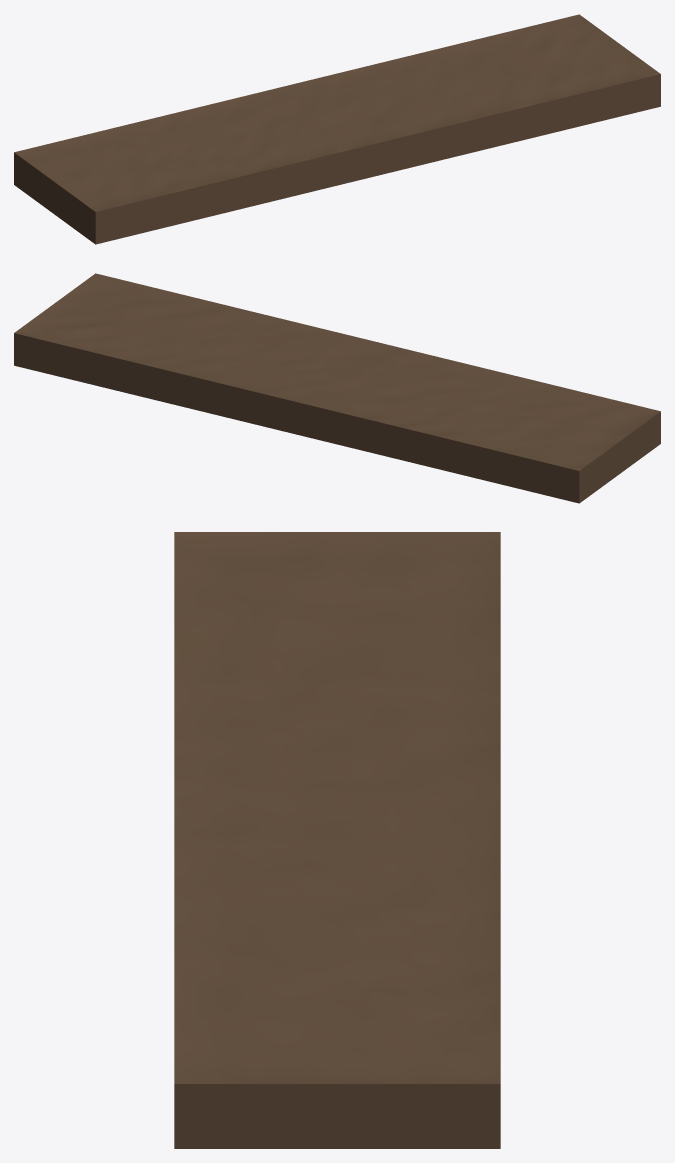
Rendered from body_close.fbx.
3 views of the same model, one above another, from view 1: azimuth 30°, elevation 25°; view 2: azimuth 150°, elevation 25°; view 3: azimuth 270°, elevation 25° (orthographic). The views are drawn at different scales.
Visible parts, largest first — view 1: p471_BodyClose; view 2: p471_BodyClose; view 3: p471_BodyClose.
Boxes of the visible parts, box(x1,y1,x2,y2) form: p471_BodyClose: box(14, 14, 660, 244); p471_BodyClose: box(14, 273, 660, 503); p471_BodyClose: box(174, 532, 500, 1148).
Size of the model in its own units: 10 by 0.55 by 2.5.
